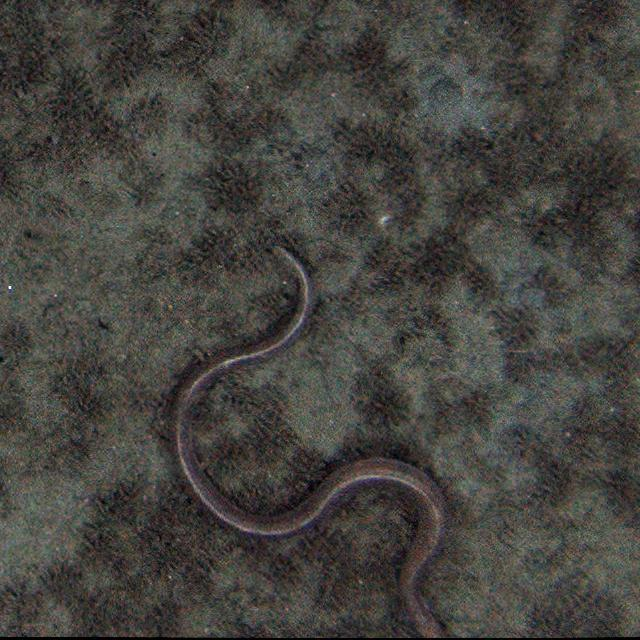eel: (173, 242, 483, 638)
